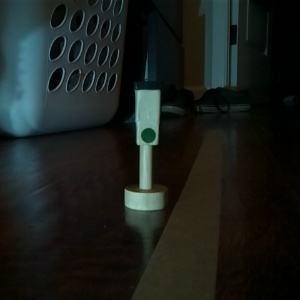traffic light green: (121, 77, 170, 210)
